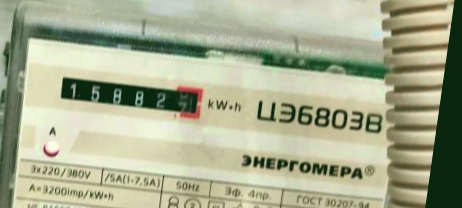1: (66, 79, 78, 98)
2: (153, 89, 166, 109)
5: (87, 83, 101, 101)
7: (175, 99, 187, 112)
8: (108, 85, 123, 104), (131, 87, 144, 107)
screen: (49, 64, 209, 126)
